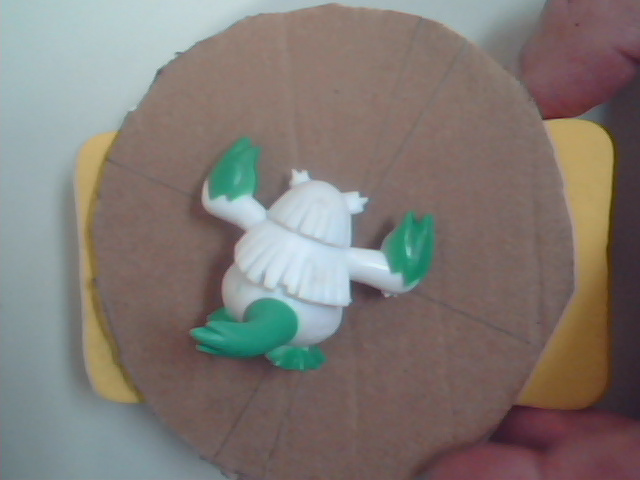abomasnow: (162, 105, 484, 402)
